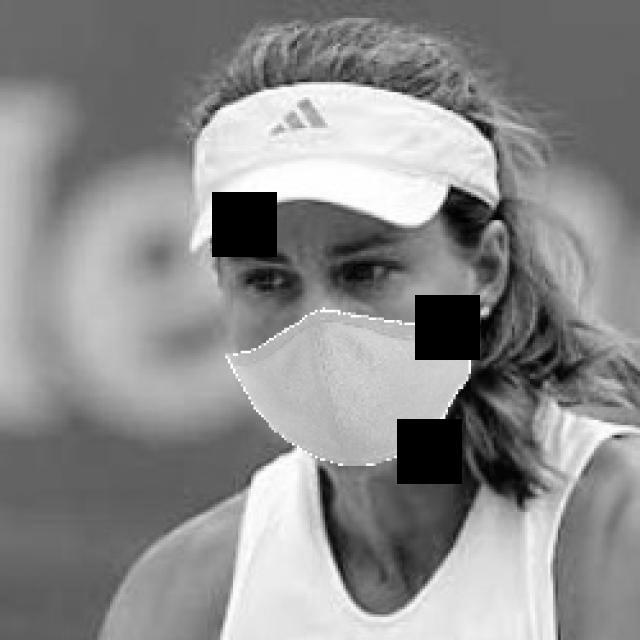cloth: (184, 127, 485, 469)
